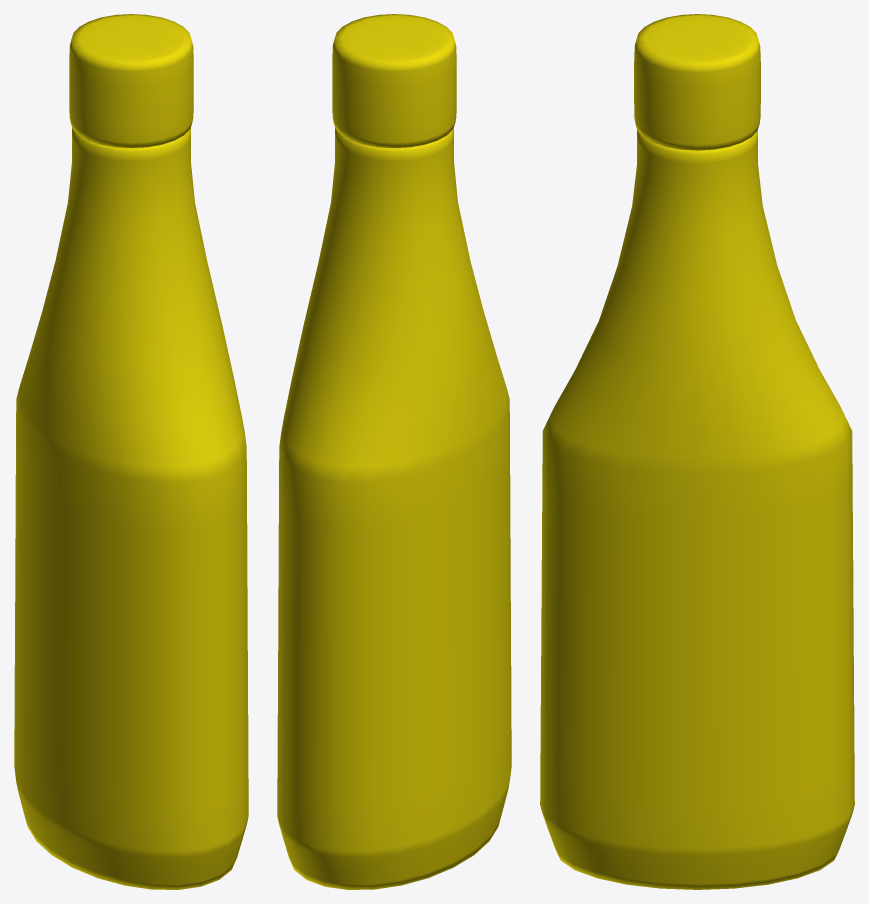
The model's file is Ketchup_Bottle.fbx.
3 renders of one model, left to right at view 1: azimuth 30°, elevation 25°; view 2: azimuth 150°, elevation 25°; view 3: azimuth 270°, elevation 25°, orthographic.
Visible parts, largest first — view 1: Ketchup_Bottle; view 2: Ketchup_Bottle; view 3: Ketchup_Bottle.
Part boxes in pixels (x1,y1,x2,y2): Ketchup_Bottle: (14, 14, 248, 889); Ketchup_Bottle: (277, 14, 511, 889); Ketchup_Bottle: (540, 14, 854, 889).
Size of the model in its own units: 34.24 by 148 by 51.78.
